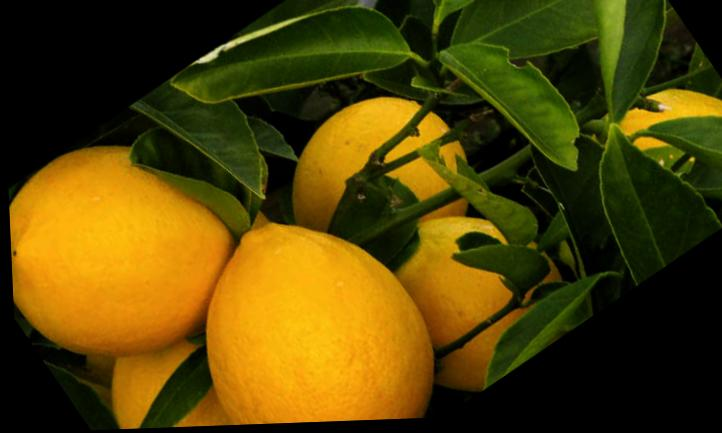Healthy Citrus: (169, 0, 416, 172), (537, 108, 717, 300), (425, 8, 597, 206), (477, 0, 705, 125), (130, 56, 280, 225), (455, 262, 631, 394), (638, 80, 722, 241), (372, 0, 613, 37)
